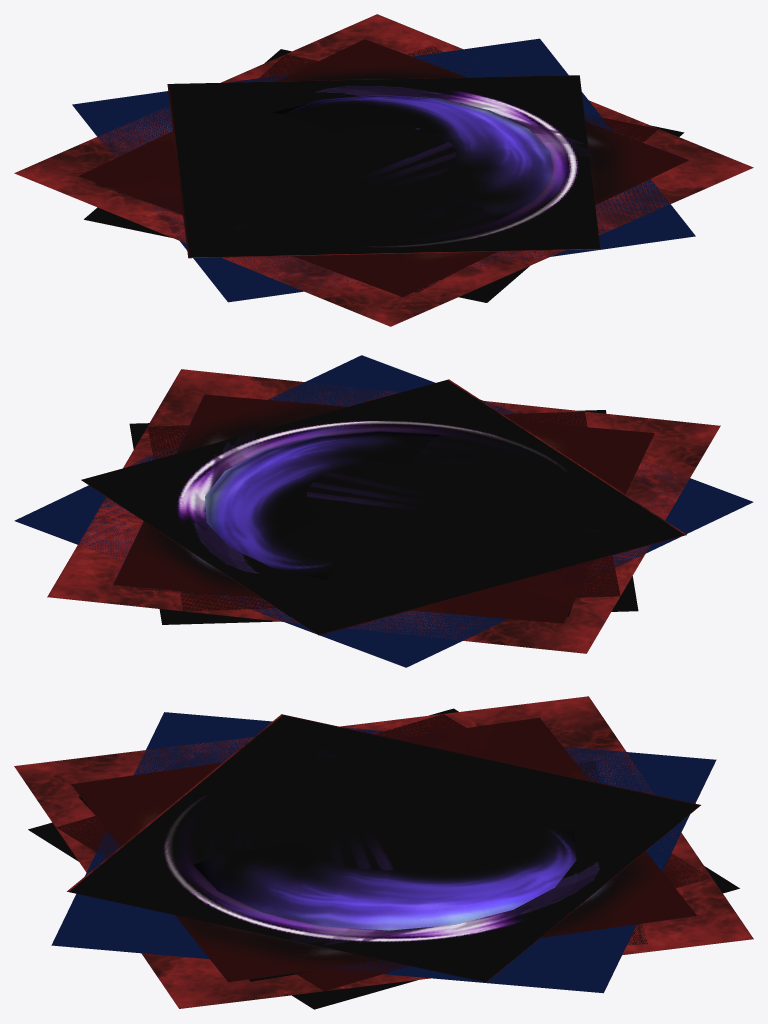
Rendered from daoguang01.FBX.
3 views of the same model, one above another, from view 1: azimuth 30°, elevation 25°; view 2: azimuth 150°, elevation 25°; view 3: azimuth 270°, elevation 25° (orthographic). The views are drawn at different scales.
Visible parts, largest first — view 1: daoguang02, daoguang07, daoguang03, daoguang06, daoguang01, daoguang08, daoguang05; view 2: daoguang02, daoguang07, daoguang03, daoguang06, daoguang01, daoguang05, daoguang08; view 3: daoguang02, daoguang07, daoguang06, daoguang01, daoguang03, daoguang05, daoguang08.
Boxes of the visible parts, x1,y1,x2,y2 form: daoguang02: (167,75,600,258); daoguang07: (14,14,753,326); daoguang03: (79,39,688,296); daoguang06: (72,38,695,302); daoguang01: (271,94,552,220); daoguang08: (84,49,684,302); daoguang05: (255,54,658,142); daoguang02: (81,379,686,635); daoguang07: (47,369,720,653); daoguang03: (113,394,654,623); daoguang06: (14,355,753,667); daoguang01: (205,431,440,579); daoguang05: (147,411,620,611); daoguang08: (129,410,638,624); daoguang02: (67,714,700,982); daoguang07: (14,696,753,1008); daoguang06: (51,712,716,993); daoguang01: (193,826,576,930); daoguang03: (71,717,696,982); daoguang05: (56,714,711,991); daoguang08: (28,708,739,1009).
Size of the model in its own units: 5.9 by 0.4033 by 5.9.
